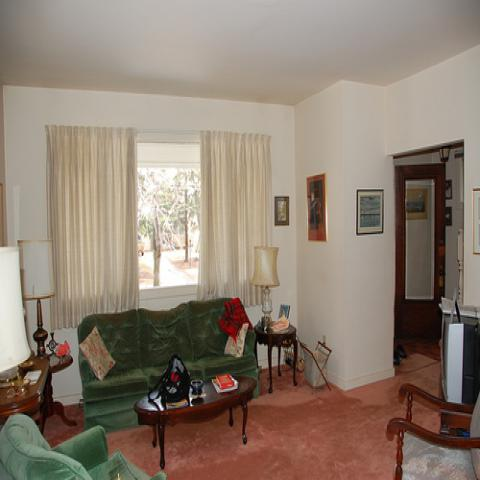car: (138, 233, 146, 256)
